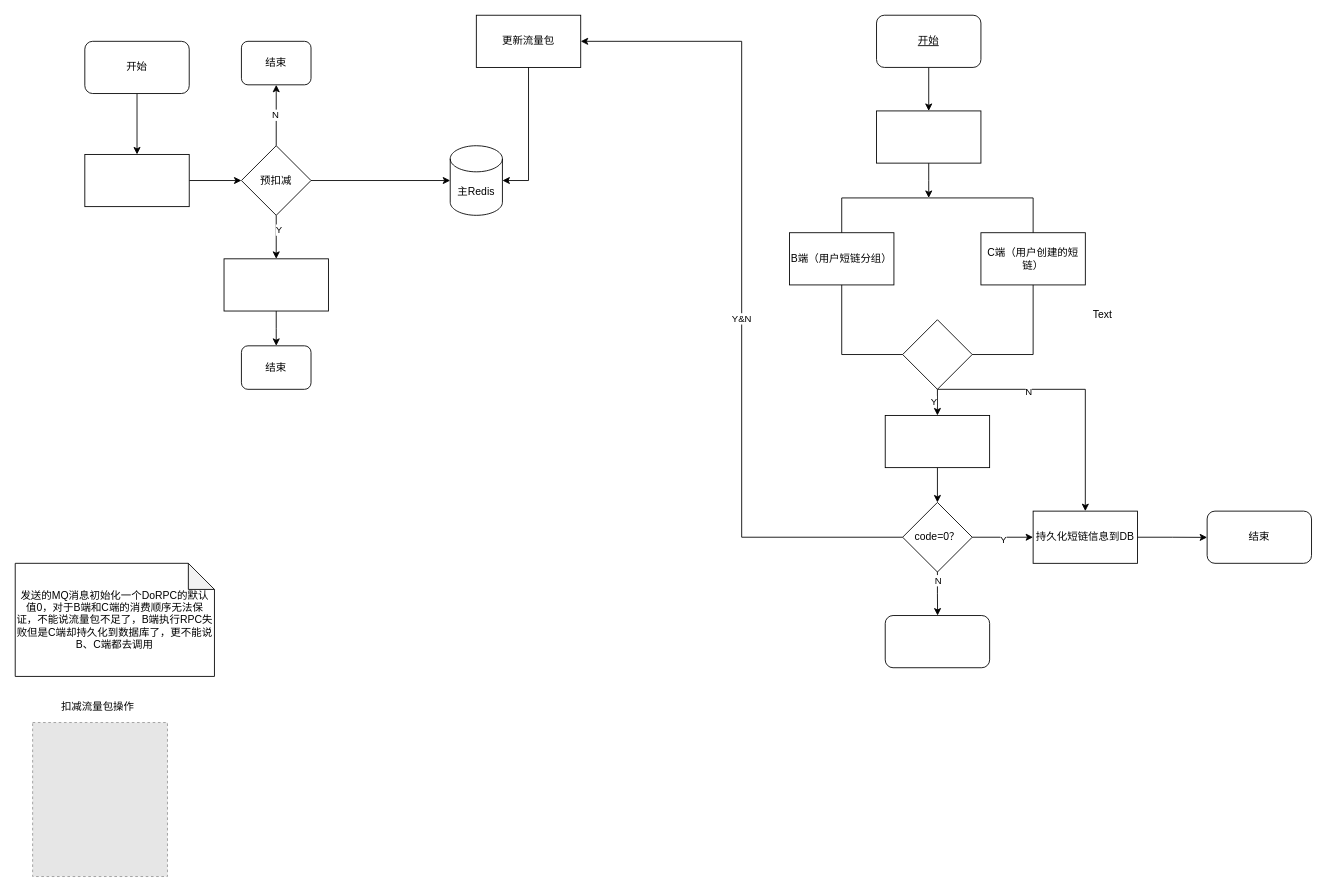
Some shapes in this 1327 by 892 pixel diagram are drawn without their labels. Grey dashed boxes stand in for pictures. The shapes that lost their labels are listed below. From the top down, each one's centre as x and y in pixels, then its label:
At (x=928, y=136): "创建短链MQ消费".
At (x=136, y=180): "新增短链".
At (x=275, y=284): "发送MQ消息".
At (x=937, y=354): "DoRPC=0？".
At (x=937, y=441): "调用account-service扣减流量包，DoRPC=1".
At (x=937, y=641): "更新redis流量包，发送消息通知用户".
